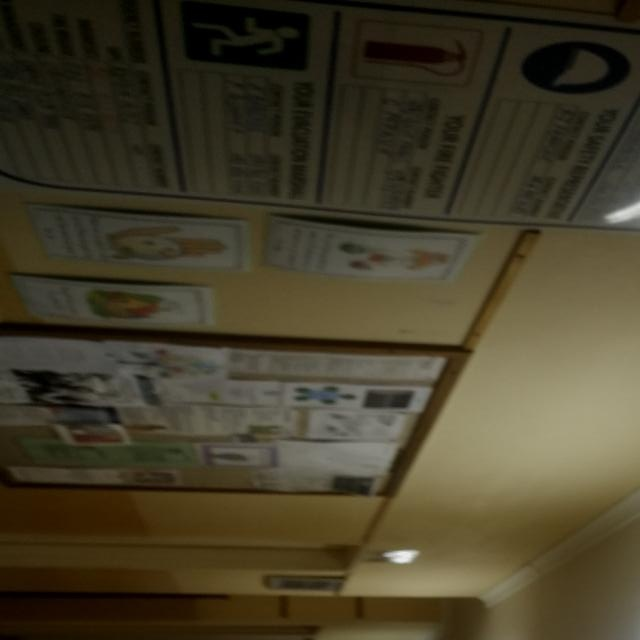fluorescent tube: (594, 600, 640, 640)
